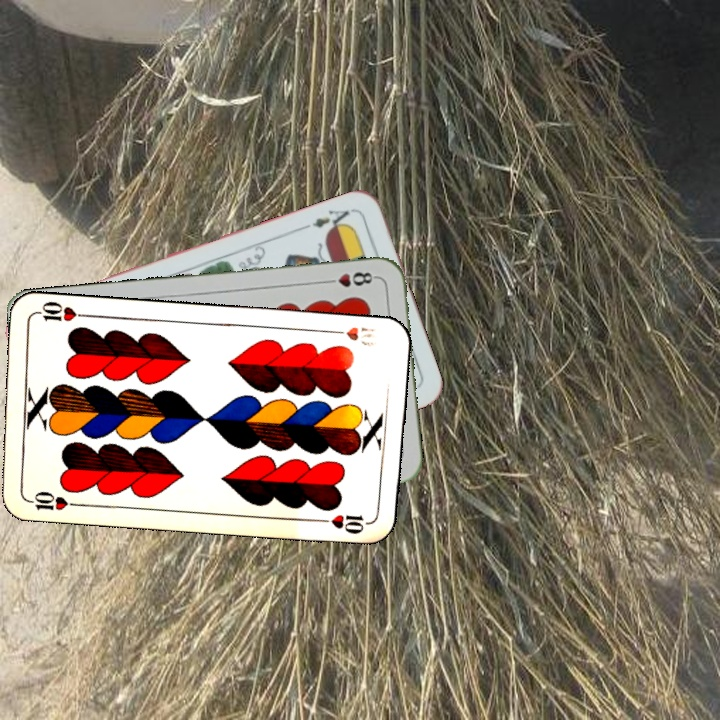EA: (300, 204, 357, 235)
H10: (22, 487, 81, 513), (325, 323, 380, 350)
H8: (320, 267, 379, 290)
